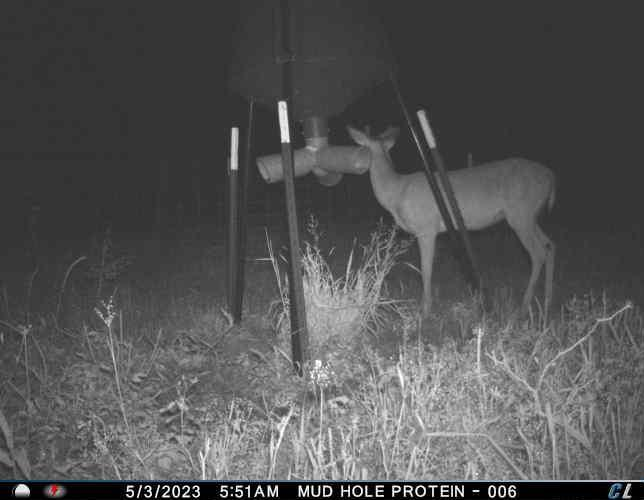Deer: (343, 116, 560, 327)
